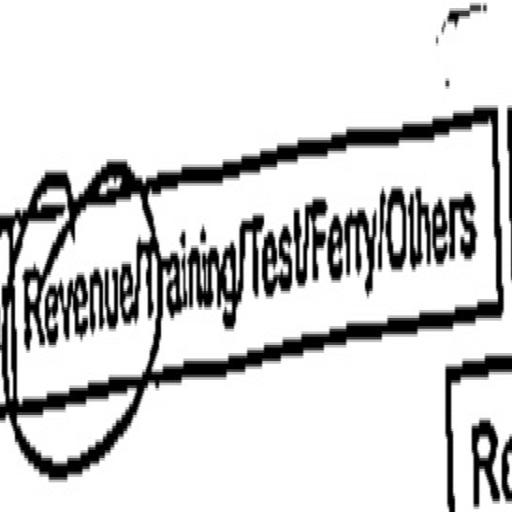check: (14, 114, 137, 510)
